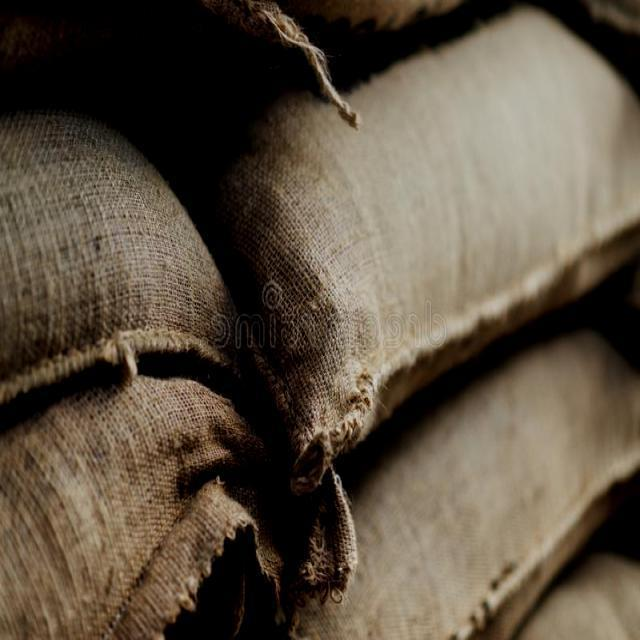gunny_bag: (191, 0, 640, 491), (266, 303, 640, 639), (0, 352, 289, 636), (0, 90, 250, 416)
